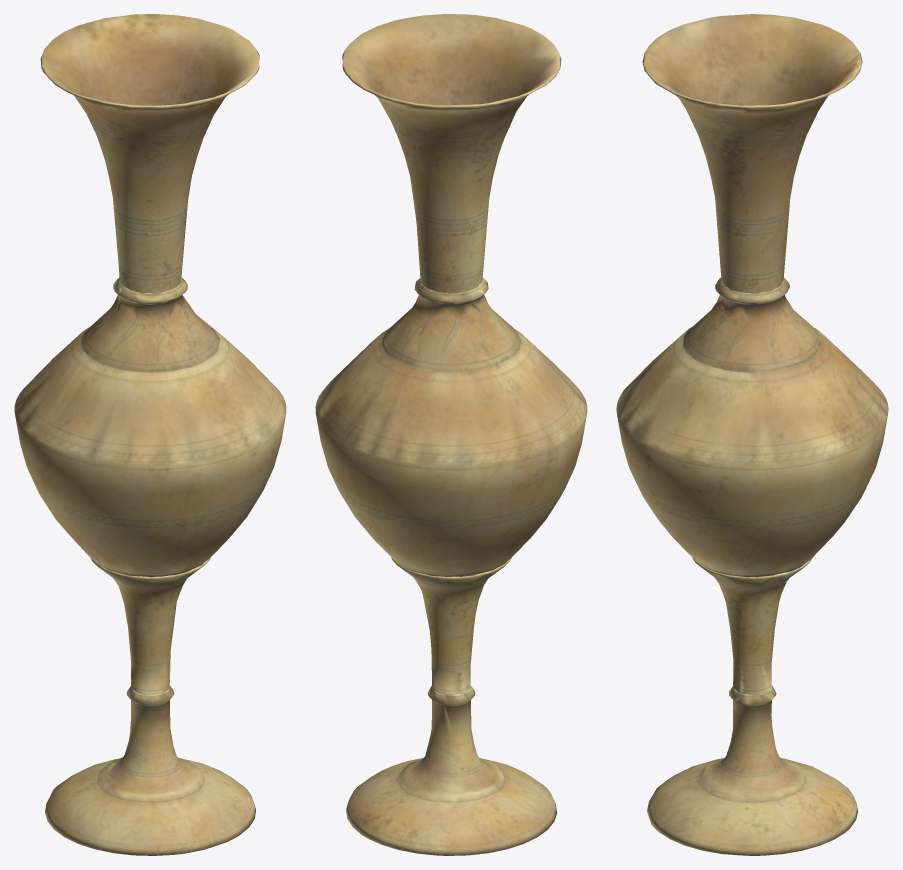
File: brass_vase_01.glb
The picture shows the model from 3 angles, left to right: view 1: azimuth 30°, elevation 25°; view 2: azimuth 150°, elevation 25°; view 3: azimuth 270°, elevation 25°; orthographic projection.
Visible parts, largest first — view 1: brass_vase_01; view 2: brass_vase_01; view 3: brass_vase_01.
Boxes of the visible parts, x1,y1,x2,y2 form: brass_vase_01: (14, 14, 286, 855); brass_vase_01: (315, 14, 587, 855); brass_vase_01: (616, 14, 888, 855).
Bounding box in the file's own units: 0.2273 × 0.6925 × 0.2273.
Materials: 1 (1 with a texture image).
